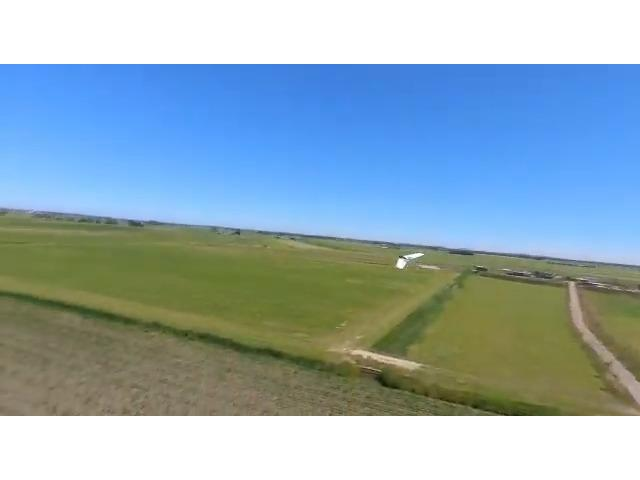Anti-Drone: (393, 247, 427, 275)
